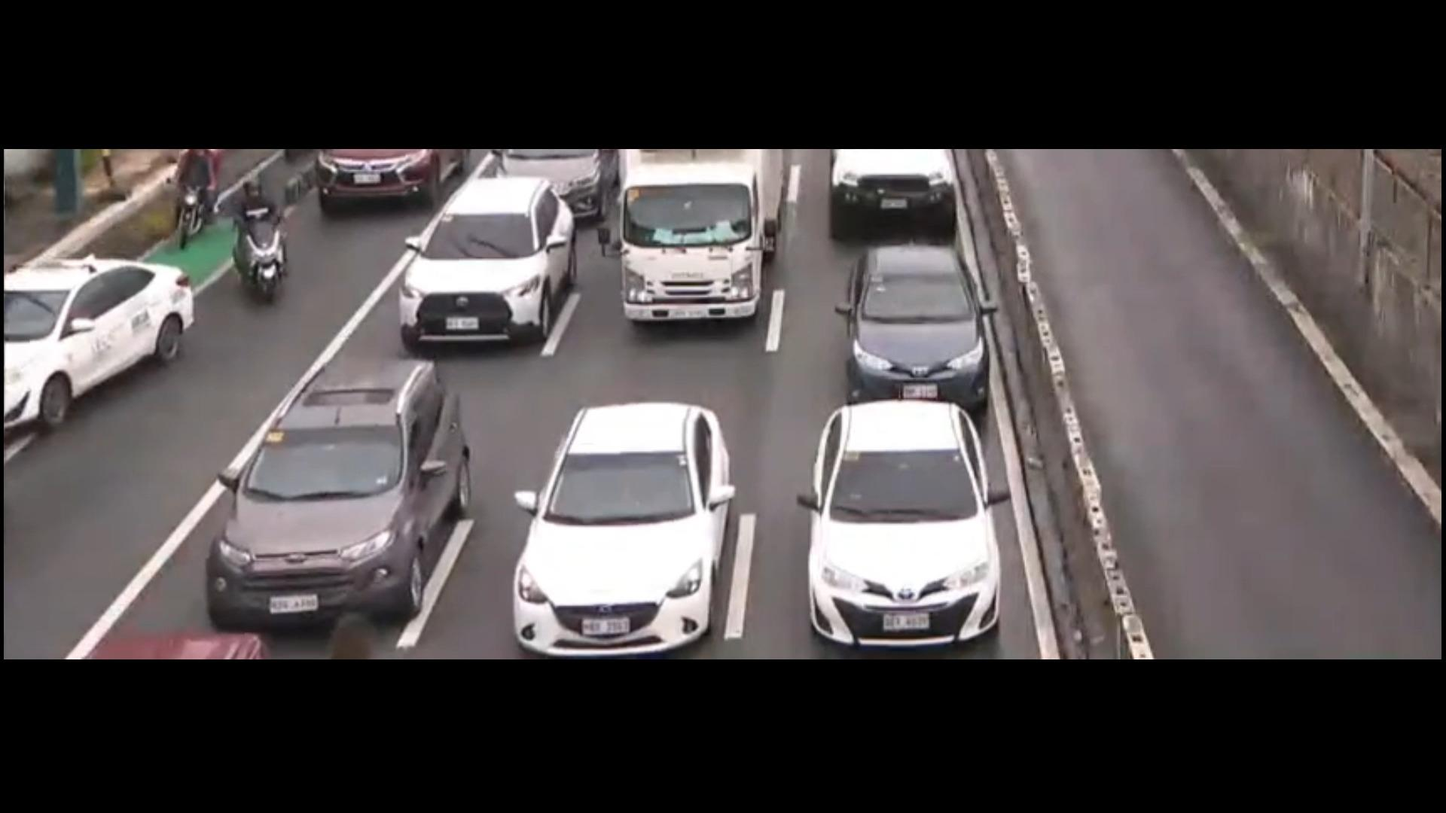Motorcycle: (226, 174, 292, 303), (154, 147, 223, 261)
SUV: (210, 354, 467, 614), (394, 182, 579, 347)
Sedan: (515, 397, 732, 653), (799, 400, 1012, 645), (0, 260, 182, 422), (836, 229, 990, 399)
Truck: (612, 148, 791, 323)
